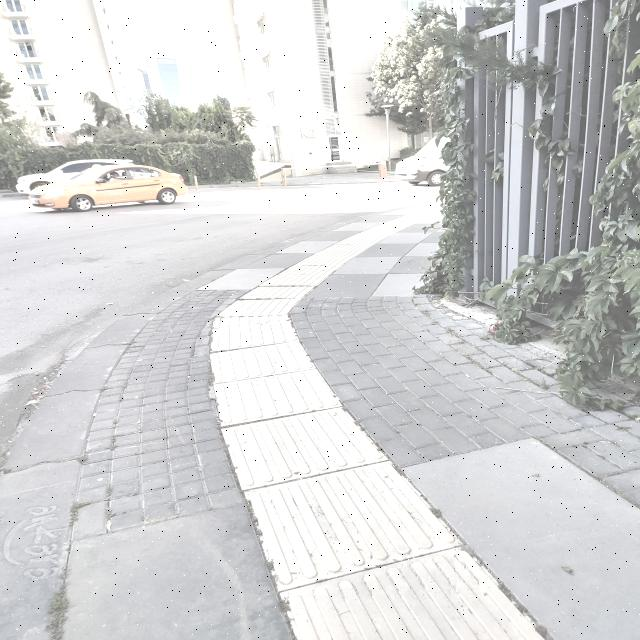sidewalk: (2, 200, 640, 640)
